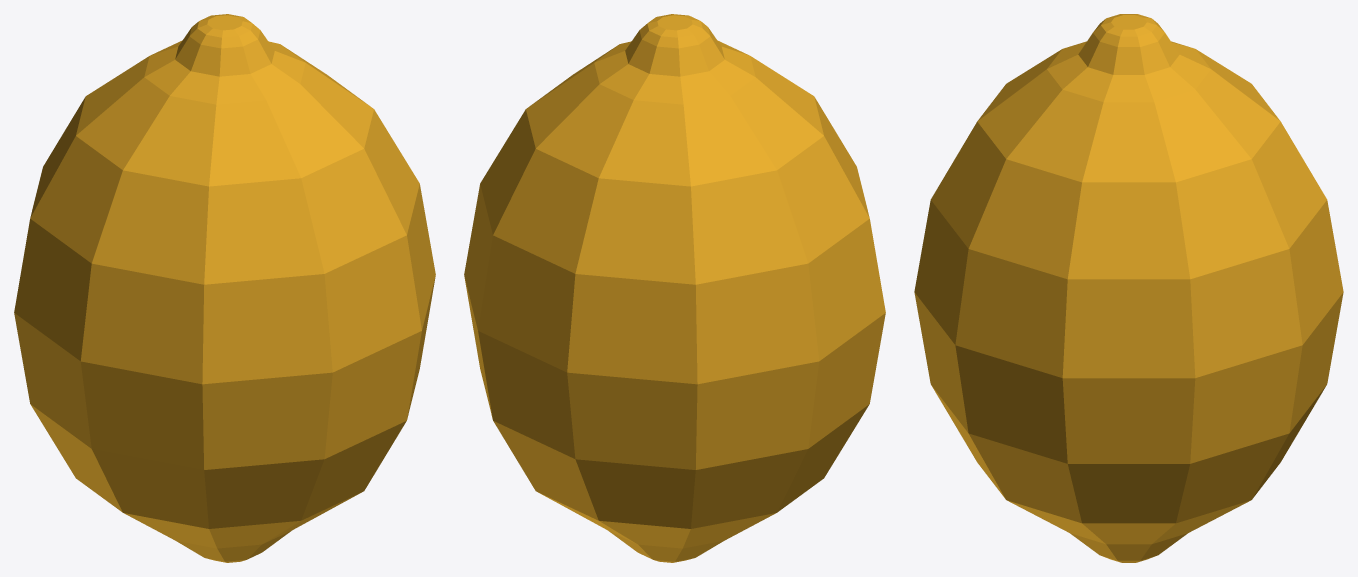
The model's file is Ma_Fruit_Lemon.fbx.
3 views of the same model, side by side, from view 1: azimuth 30°, elevation 25°; view 2: azimuth 150°, elevation 25°; view 3: azimuth 270°, elevation 25° (orthographic).
Parts seen in each view (by area): view 1: Ma_Fruit_Lemon; view 2: Ma_Fruit_Lemon; view 3: Ma_Fruit_Lemon.
Boxes of the visible parts, x1,y1,x2,y2 form: Ma_Fruit_Lemon: (14,14,435,562); Ma_Fruit_Lemon: (464,14,885,562); Ma_Fruit_Lemon: (914,14,1343,562).
Bounding box in the file's own units: 52.32 × 55.01 × 75.29.
